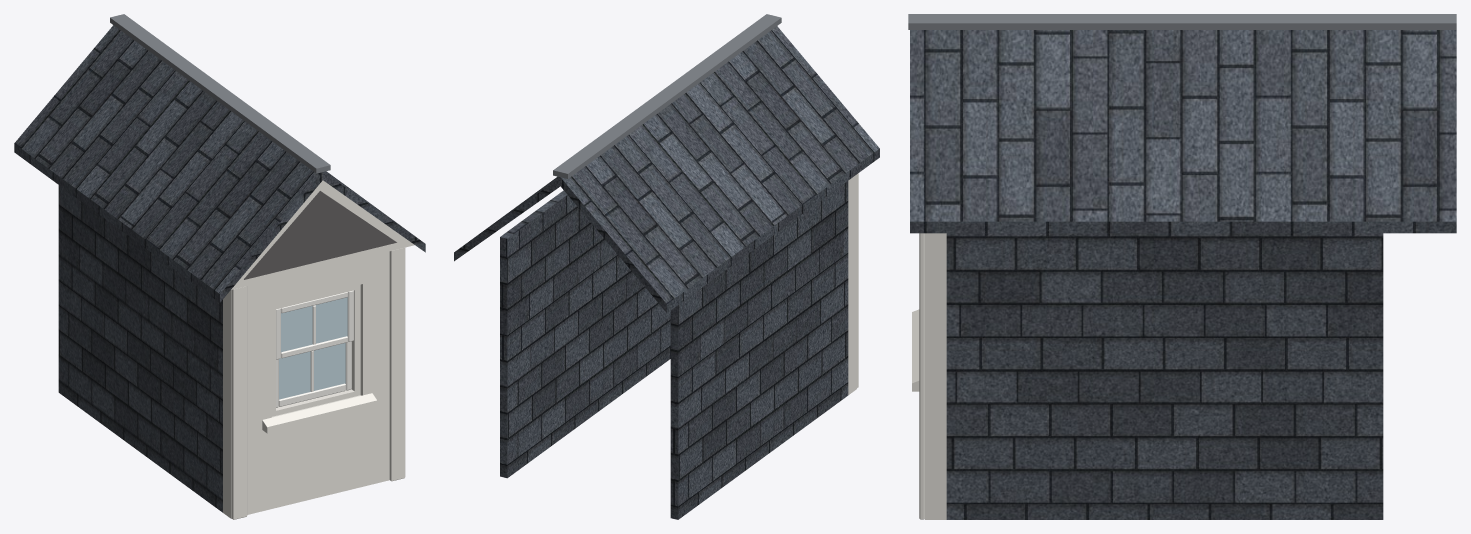
File: dormer.glb
3 renders of one model, left to right at view 1: azimuth 30°, elevation 25°; view 2: azimuth 150°, elevation 25°; view 3: azimuth 270°, elevation 25°, orthographic. The views are drawn at different scales.
Visible parts, largest first — view 1: dormer_shingles, dormer_trim, dormer_dark, dormer_glass, dormer_ridge, dormer_sash, dormer_frame; view 2: dormer_shingles, dormer_ridge, dormer_trim; view 3: dormer_shingles, dormer_ridge, dormer_trim.
Part boxes in pixels (x1,y1,x2,y2): dormer_shingles: (14,25,425,512); dormer_trim: (223,180,414,519); dormer_dark: (244,191,396,279); dormer_glass: (279,297,347,399); dormer_ridge: (110,14,330,173); dormer_sash: (276,290,353,407); dormer_frame: (272,284,360,416); dormer_shingles: (454,26,879,519); dormer_ridge: (553,14,781,178); dormer_trim: (848,173,858,394); dormer_shingles: (910,30,1456,519); dormer_ridge: (908,14,1456,29); dormer_trim: (912,233,946,519).
Bounding box in the file's own units: 1.72 × 2.68 × 2.99.
7 materials, 1 textured.
